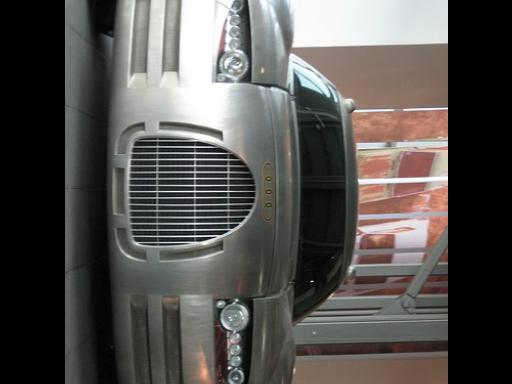Cheetah: (94, 0, 357, 384)
